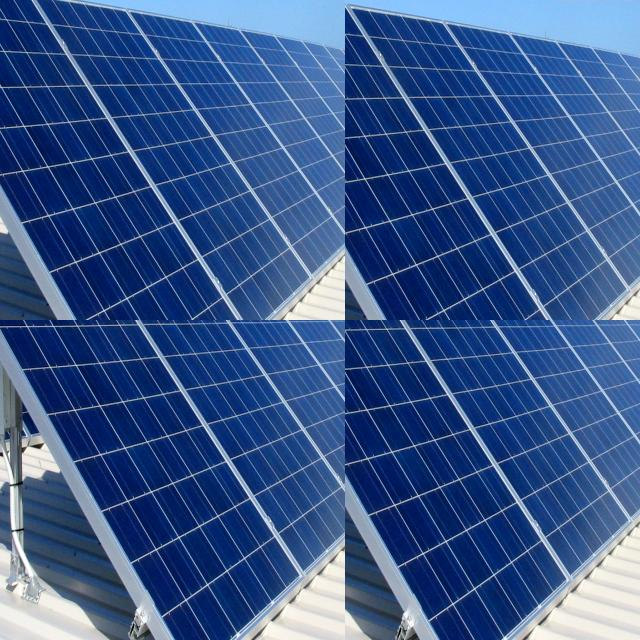bird: (508, 142, 594, 216)
crack: (460, 320, 553, 411), (504, 398, 579, 496), (580, 341, 640, 426), (445, 568, 509, 640), (426, 424, 486, 494), (479, 561, 530, 640), (368, 442, 421, 516), (345, 343, 392, 426), (507, 544, 561, 616), (364, 348, 414, 422), (400, 320, 489, 361), (418, 479, 468, 551), (387, 354, 436, 423), (408, 396, 459, 458), (430, 539, 474, 608), (400, 432, 440, 504), (345, 405, 393, 465), (614, 320, 640, 426), (442, 480, 484, 542), (459, 470, 504, 526), (419, 605, 488, 640), (345, 321, 377, 390), (345, 354, 371, 427), (620, 328, 640, 401), (345, 320, 368, 383), (345, 320, 365, 382), (345, 320, 366, 346)
hotspot: (0, 45, 18, 84), (0, 52, 12, 97), (0, 0, 17, 28), (0, 41, 12, 80), (0, 3, 10, 27), (0, 0, 10, 21), (0, 15, 9, 38), (0, 0, 15, 13), (0, 2, 8, 24), (0, 0, 6, 12), (0, 0, 7, 8), (0, 0, 6, 9)
panel: (131, 320, 205, 353), (163, 320, 205, 344), (90, 320, 123, 342), (141, 320, 162, 343), (94, 320, 127, 334), (35, 320, 64, 335), (64, 320, 93, 334), (22, 320, 64, 329), (172, 320, 185, 328)
